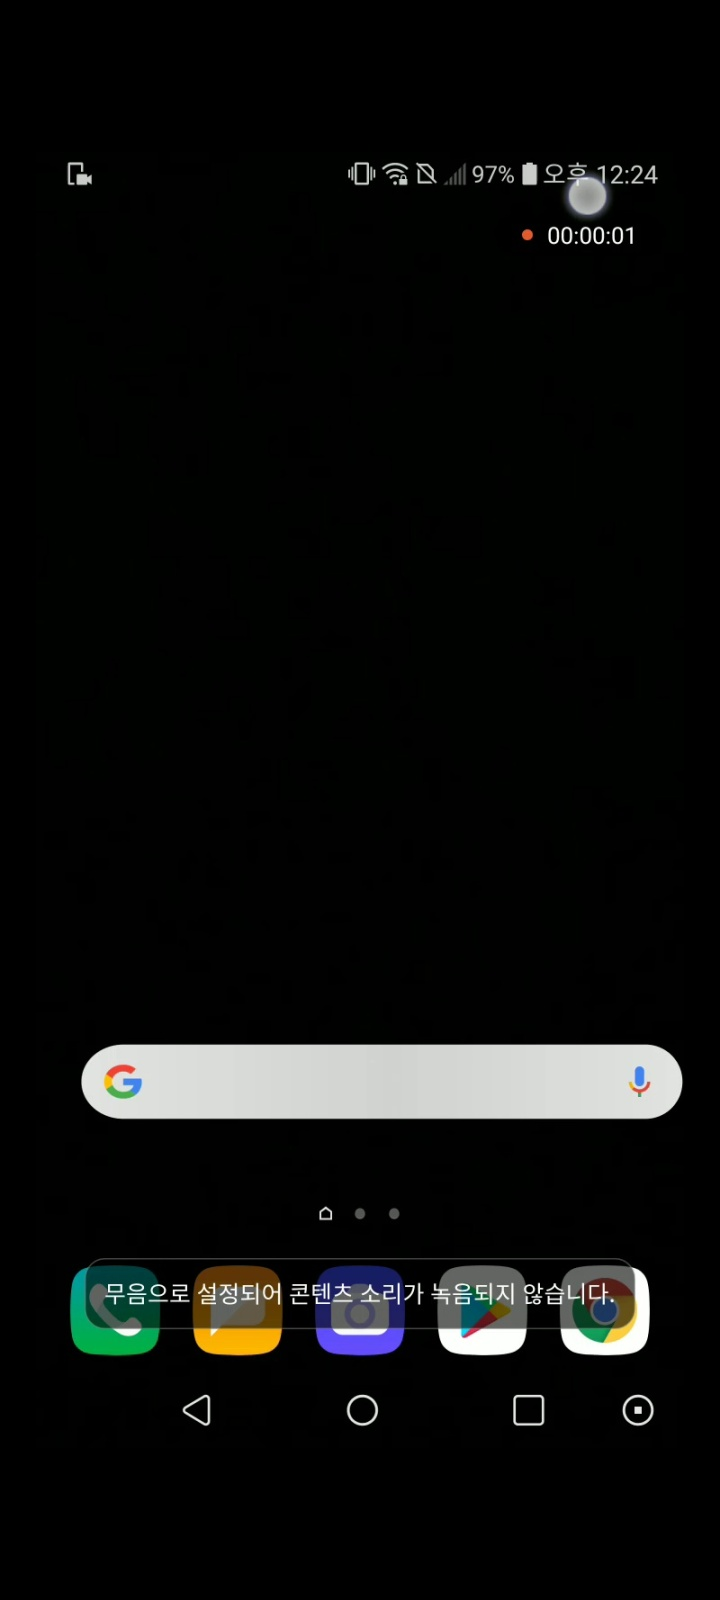Cursor: (564, 172, 609, 218)
